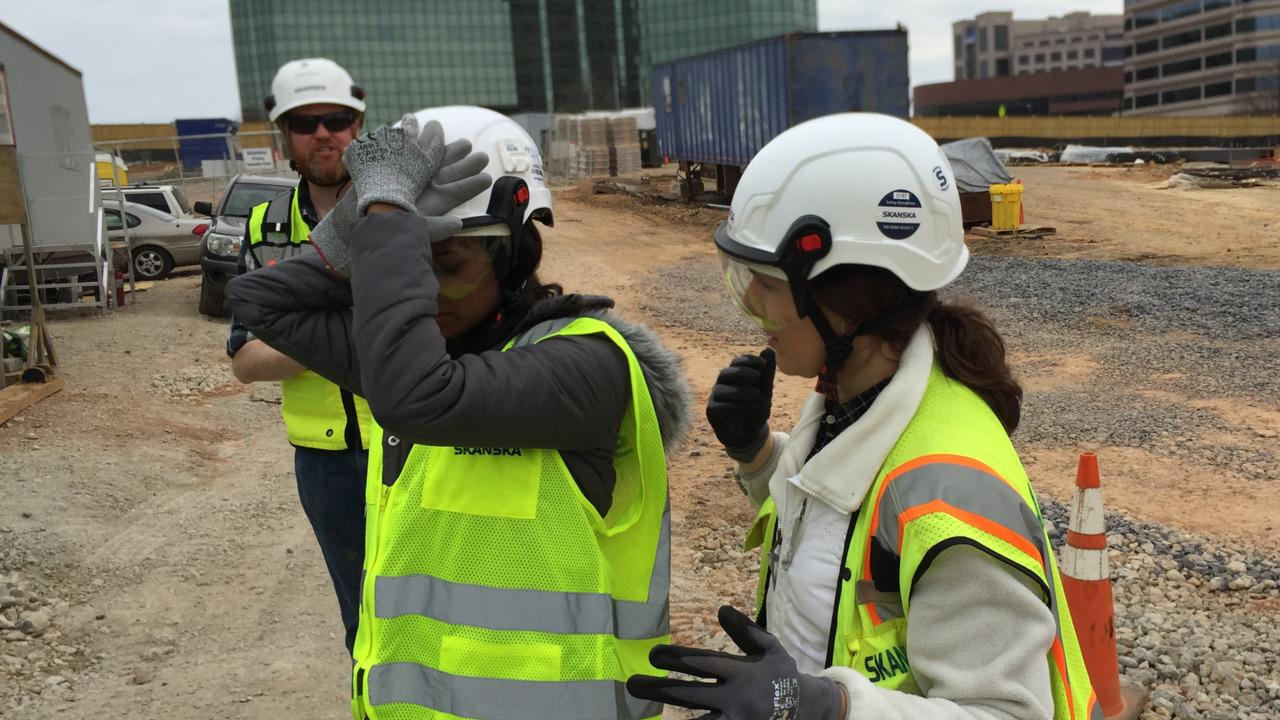helmet: (723, 117, 971, 284), (370, 110, 559, 237), (269, 63, 364, 121)
